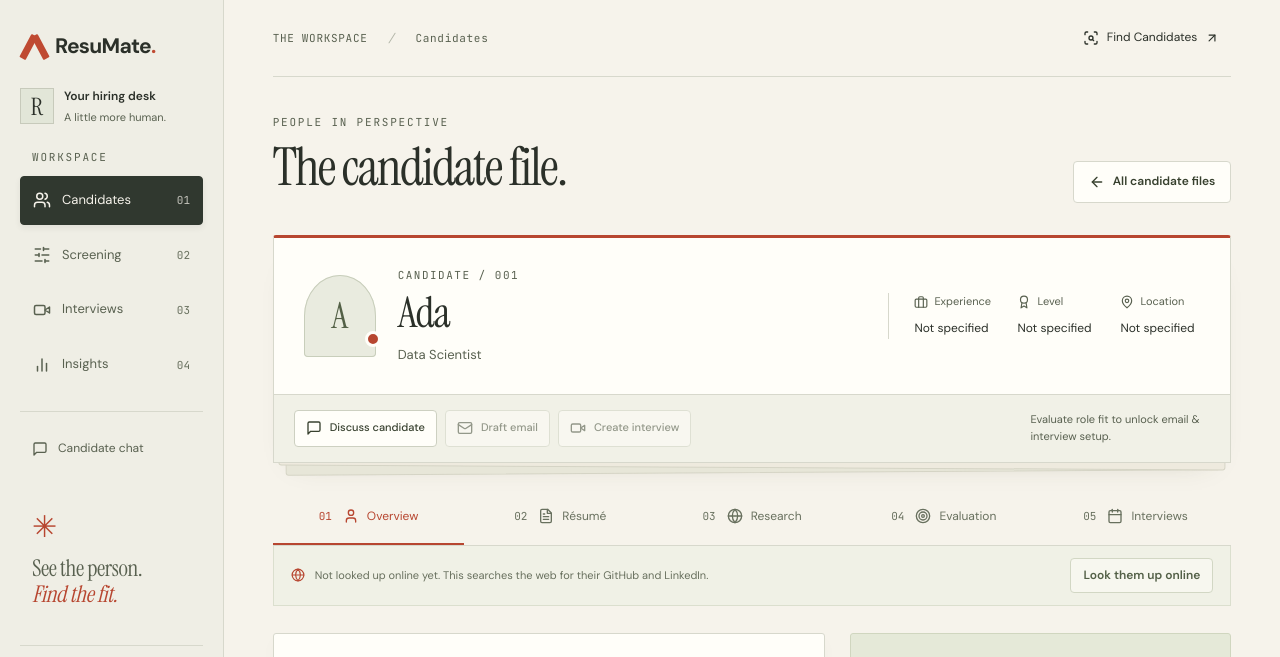
Test case: the chat › gets what a lookup found in its first message, and keeps the conversation
The image size is (1280, 657).
Click the button "Discuss candidate" at [365, 428], box [294,410,437,447]
(page scrolled)
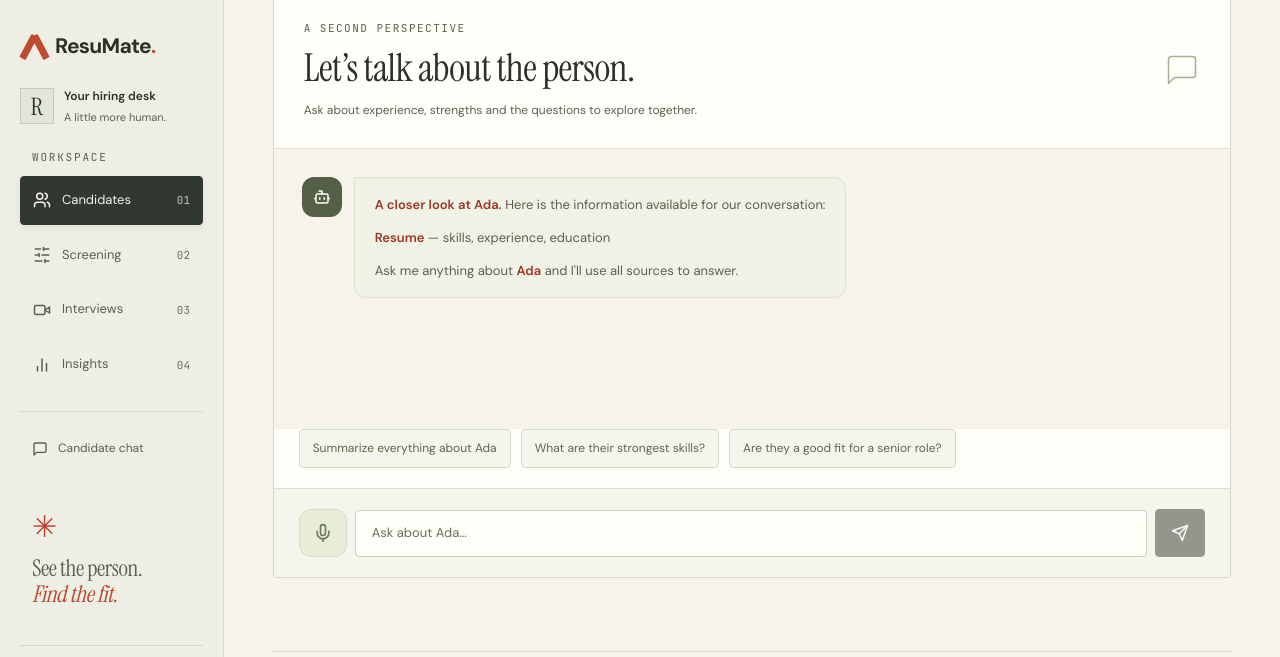
Type "What does Ada build?" into the field labelled "Ask about Ada" at [751, 533], box [355,510,1147,557]
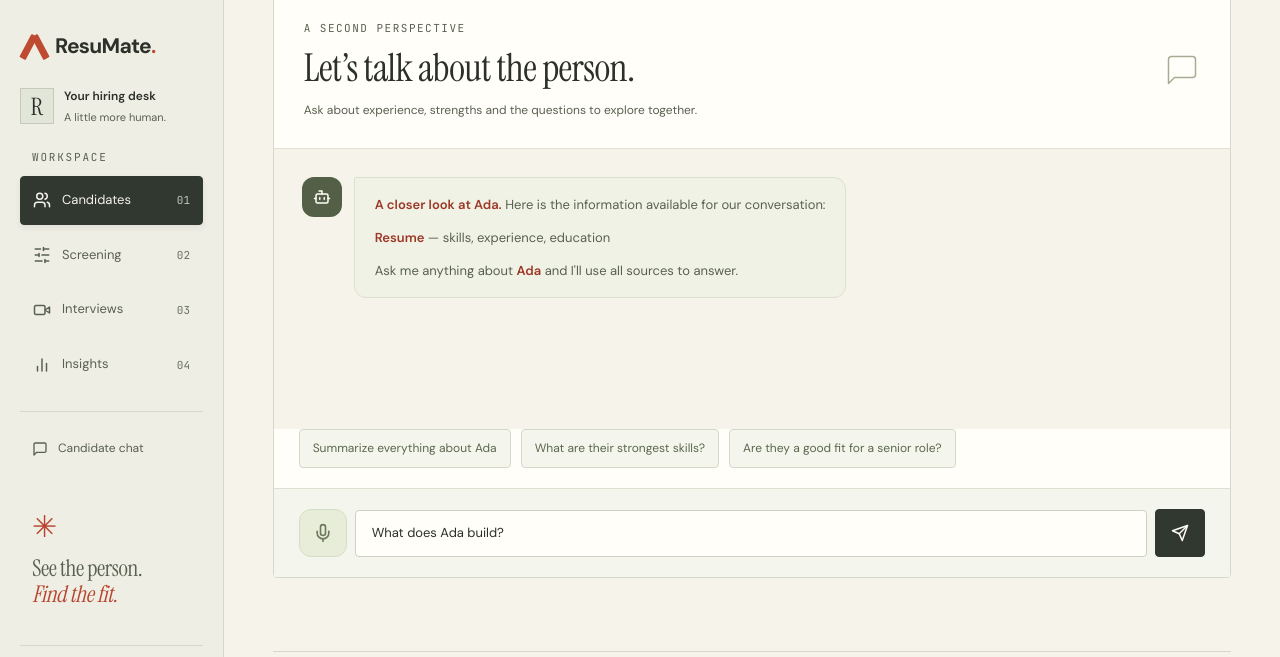
Click the button named "Send" at [1180, 533], box [1155,509,1205,557]
(page scrolled)
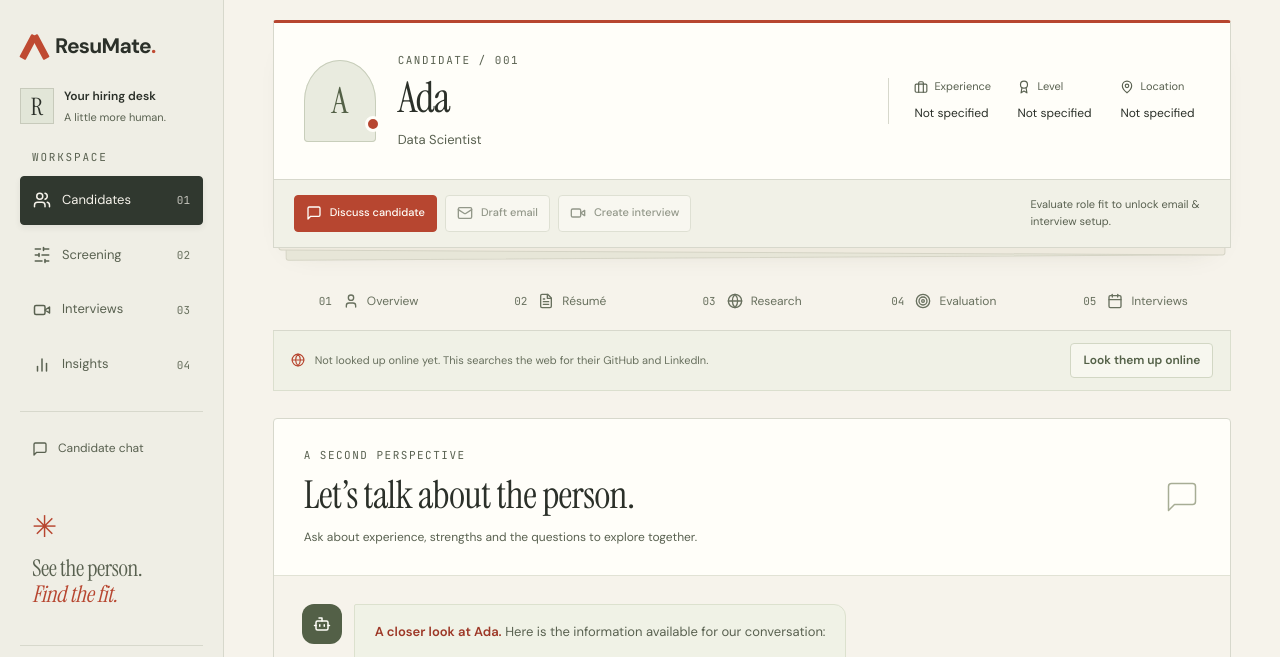
Click the button "Look them up online" at [1142, 360], box [1070,343,1213,378]
(page scrolled)
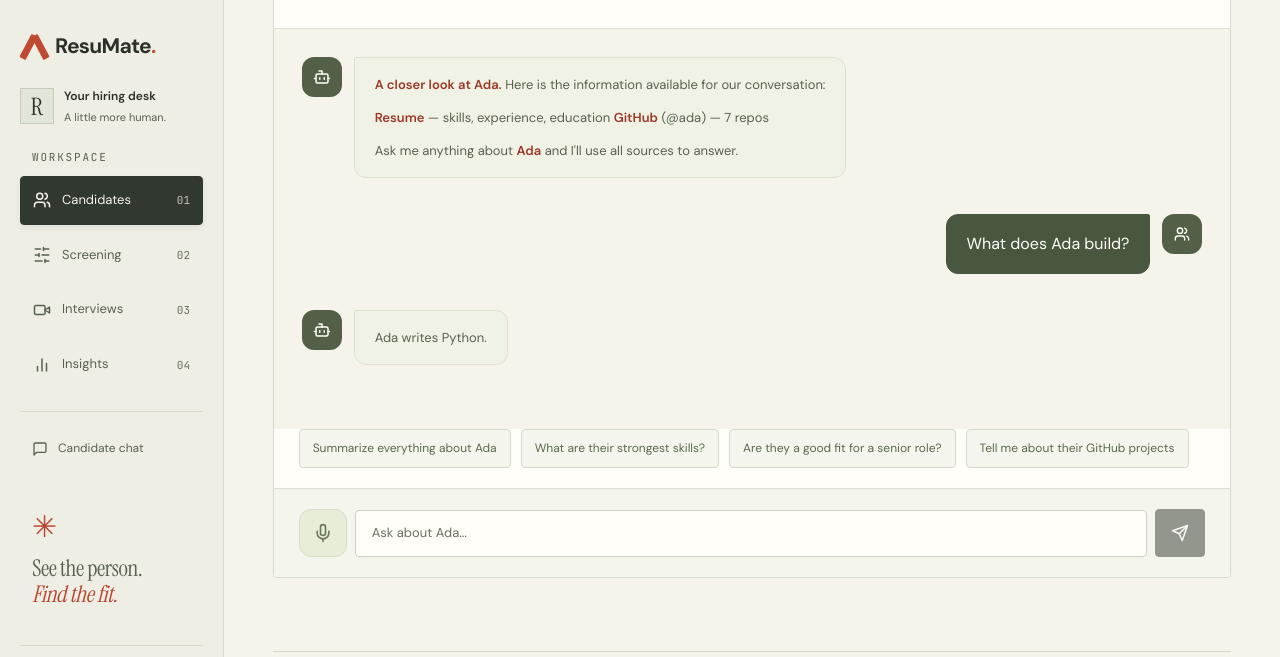
Result: the text "What does Ada build?" is shown at [967,231,1129,257]
Result: the text "Ada writes Python." is shown at [375,327,487,348]
Result: the button "Tell me about their GitHub projects" is shown at [966,429,1188,468]
